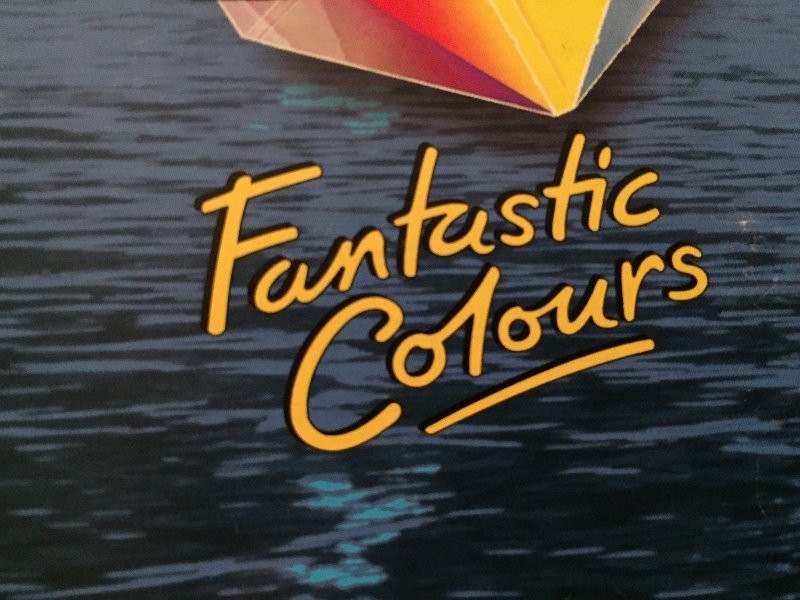text: (289, 244, 304, 476), (305, 244, 320, 476), (321, 244, 336, 476), (337, 244, 352, 476), (353, 244, 368, 476), (369, 244, 384, 476), (385, 244, 400, 476), (401, 244, 416, 476), (417, 244, 432, 476), (433, 244, 448, 476), (449, 244, 464, 476), (465, 244, 480, 476), (481, 244, 496, 476), (497, 244, 512, 476), (513, 244, 528, 476), (529, 244, 544, 476), (545, 244, 560, 476), (561, 244, 576, 476), (577, 244, 592, 476), (593, 244, 608, 476), (609, 244, 624, 476), (625, 244, 640, 476), (641, 244, 656, 476), (657, 244, 672, 476), (673, 244, 688, 476), (689, 244, 704, 476), (209, 111, 224, 343), (225, 111, 240, 343), (241, 111, 256, 343), (257, 111, 272, 343), (273, 111, 288, 343), (289, 111, 304, 343), (305, 111, 320, 343), (321, 111, 336, 343), (337, 111, 352, 343), (353, 111, 368, 343), (369, 111, 384, 343), (385, 111, 400, 343), (401, 111, 416, 343), (417, 111, 432, 343), (433, 111, 448, 343), (449, 111, 464, 343), (465, 111, 480, 343), (481, 111, 496, 343), (497, 111, 512, 343), (513, 111, 528, 343), (529, 111, 544, 343), (545, 111, 560, 343), (561, 111, 576, 343), (577, 111, 592, 343), (593, 111, 608, 343), (609, 111, 624, 343), (625, 111, 640, 343), (641, 111, 656, 343), (197, 111, 208, 343), (705, 244, 709, 476), (657, 111, 661, 343), (287, 244, 288, 476)
